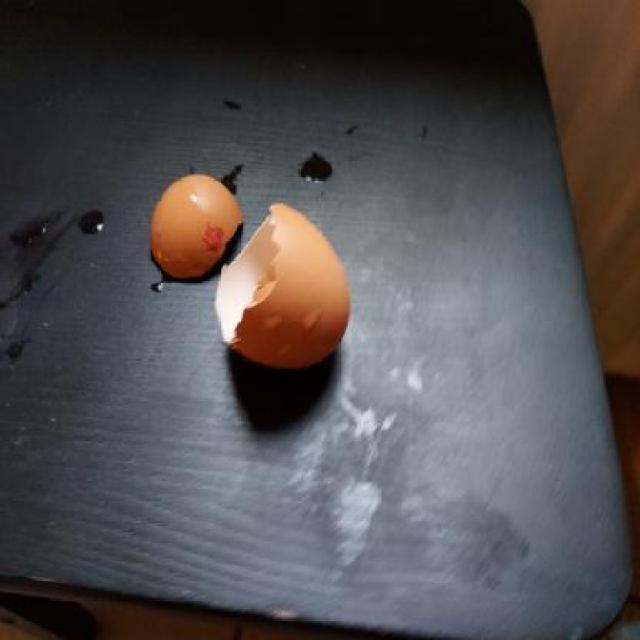biodegradable: (212, 201, 352, 374), (142, 169, 244, 285)
